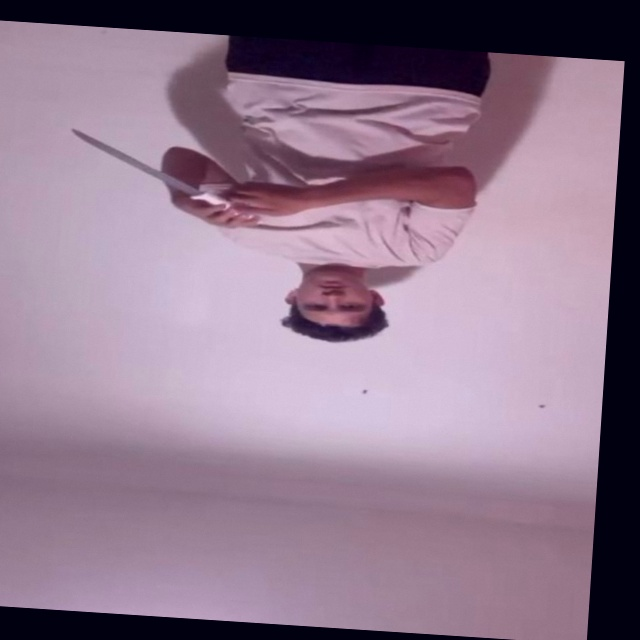Sharp-Object: (71, 127, 207, 197)
